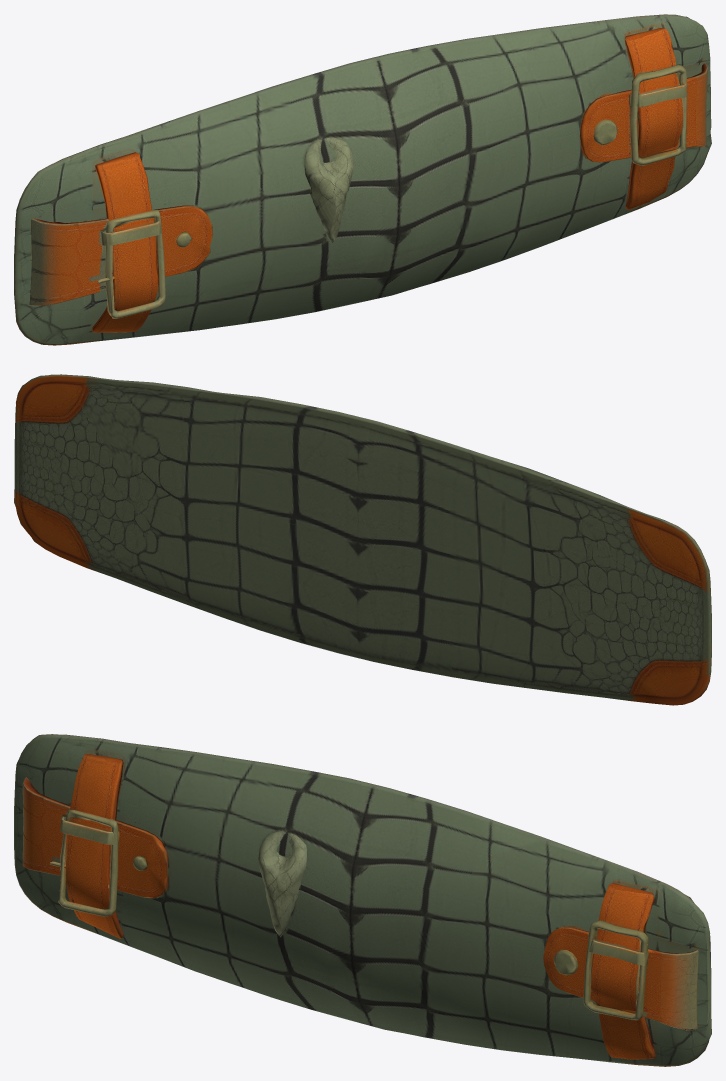
The model's file is serpents-coil-bracer_refine.glb.
3 renders of one model, top to bottom at view 1: azimuth 30°, elevation 25°; view 2: azimuth 150°, elevation 25°; view 3: azimuth 330°, elevation 25°, orthographic.
Size of the model in its own units: 0.9551 by 0.3149 by 0.085.
Materials: 1 (1 with a texture image).
